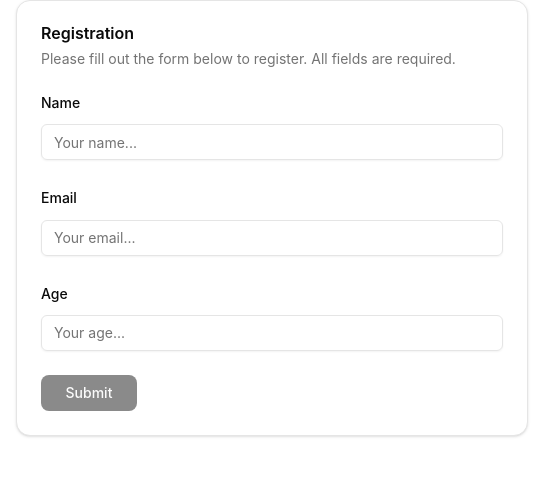
Test: RegisterForm › form display and validation › shows error when name is shorter than 5 characters
The width and height of the screenshot is (545, 482).
Type "ab" into the field labelled "Name".
click(272, 142); type("ab")  # box x1=41 y1=124 x2=503 y2=160
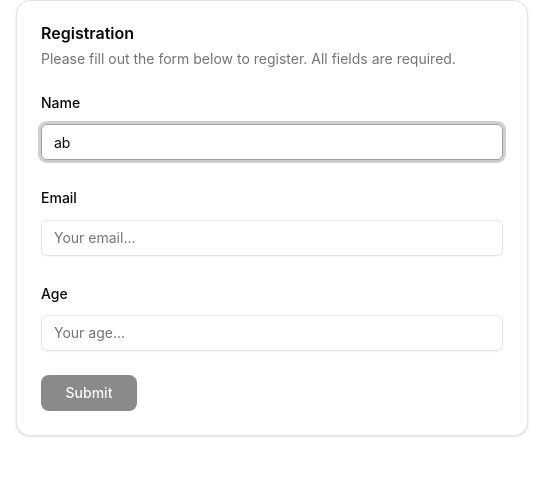
Press Tab
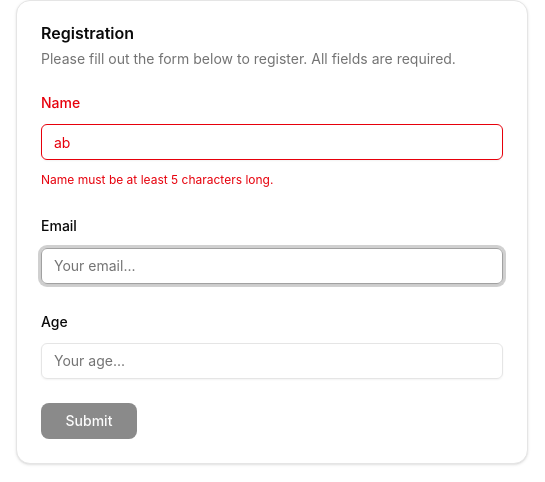
Expected: the text "Name must be at least 5 characters long." is shown, x1=41 y1=172 x2=273 y2=187
